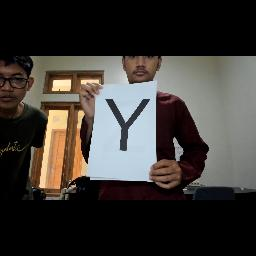y: (103, 96, 153, 154)
